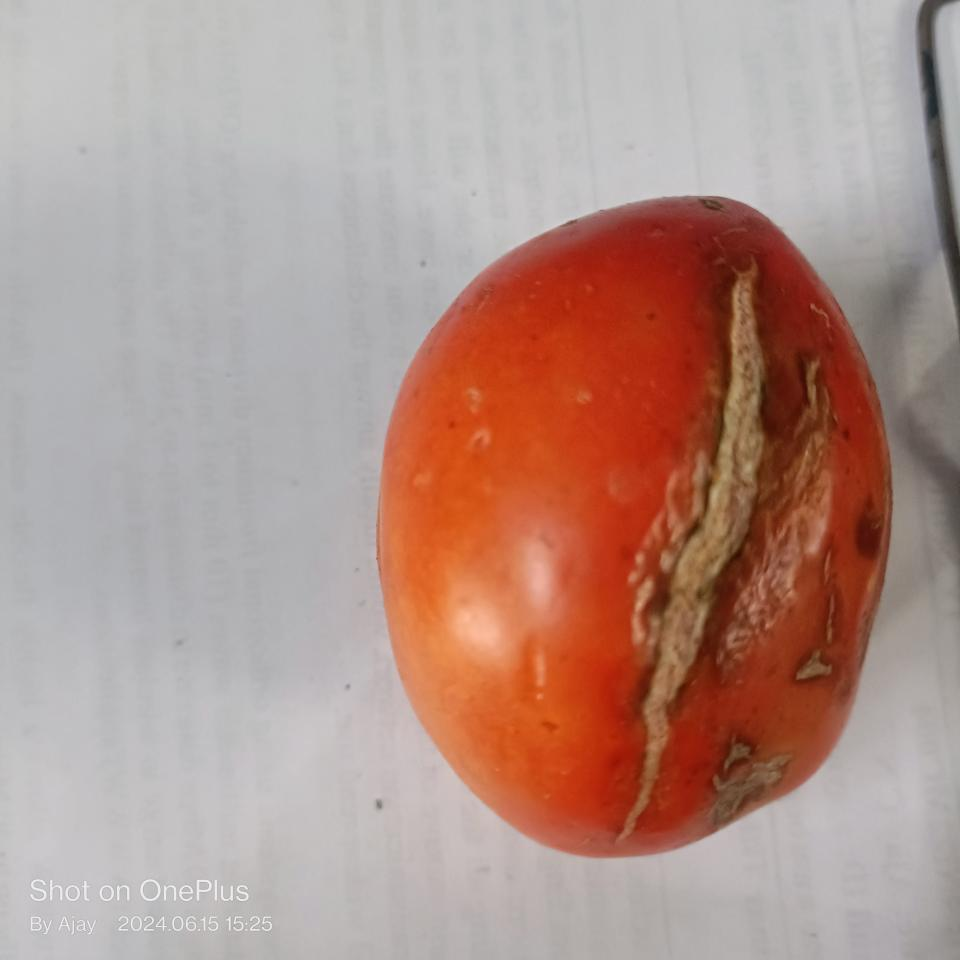Cracking: (598, 246, 784, 849)
